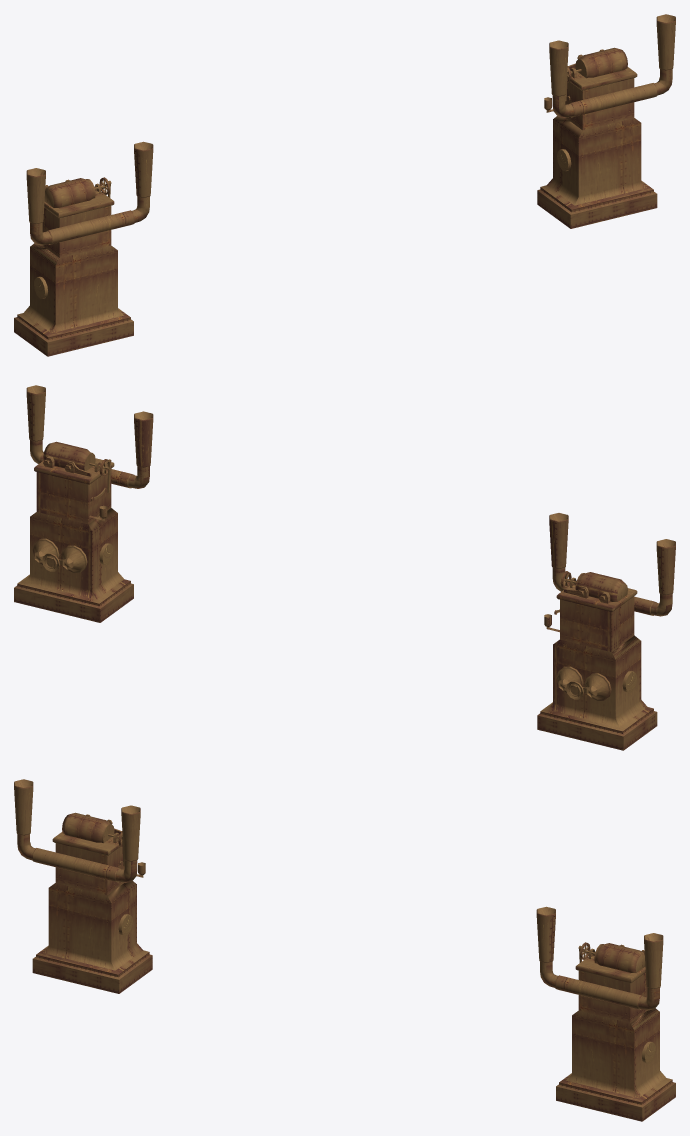
Rendered from SteamMachines.fbx.
3 renders of one model, top to bottom at view 1: azimuth 30°, elevation 25°; view 2: azimuth 150°, elevation 25°; view 3: azimuth 330°, elevation 25°, orthographic.
Visible parts, largest first — view 1: SteamMachines; view 2: SteamMachines; view 3: SteamMachines.
Part boxes in pixels (box(x1,y1,x2,y2)): SteamMachines: box(14, 14, 675, 356); SteamMachines: box(14, 385, 675, 750); SteamMachines: box(14, 779, 675, 1121).
Bounding box in the file's own units: 96.17 × 26.34 × 11.26.
